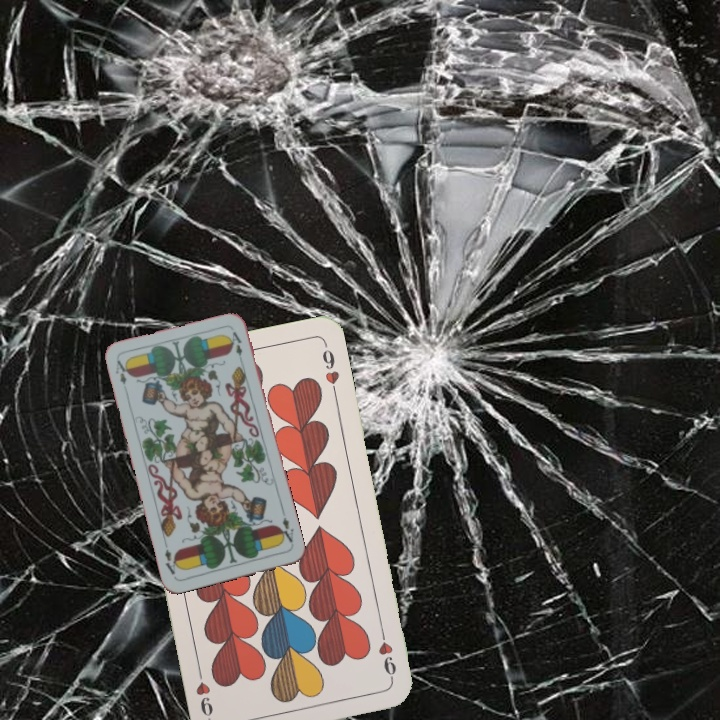EA: (275, 513, 296, 548), (111, 356, 132, 387)
H9: (374, 624, 399, 683)
